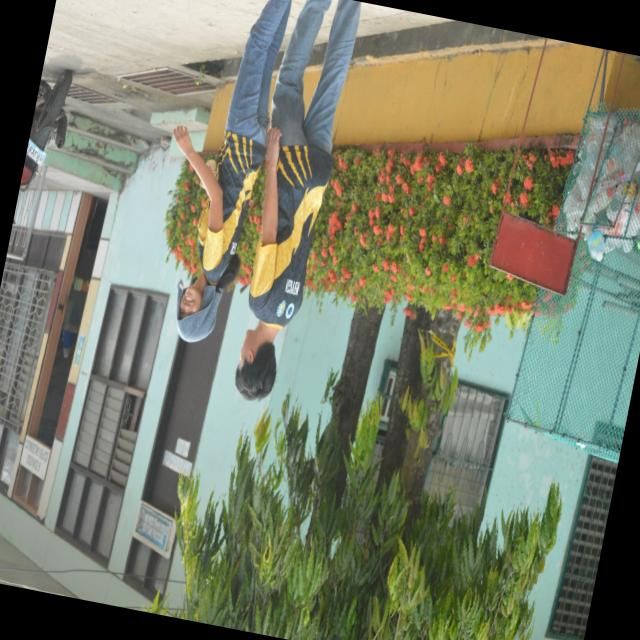person: (236, 0, 360, 399), (174, 0, 291, 341)
